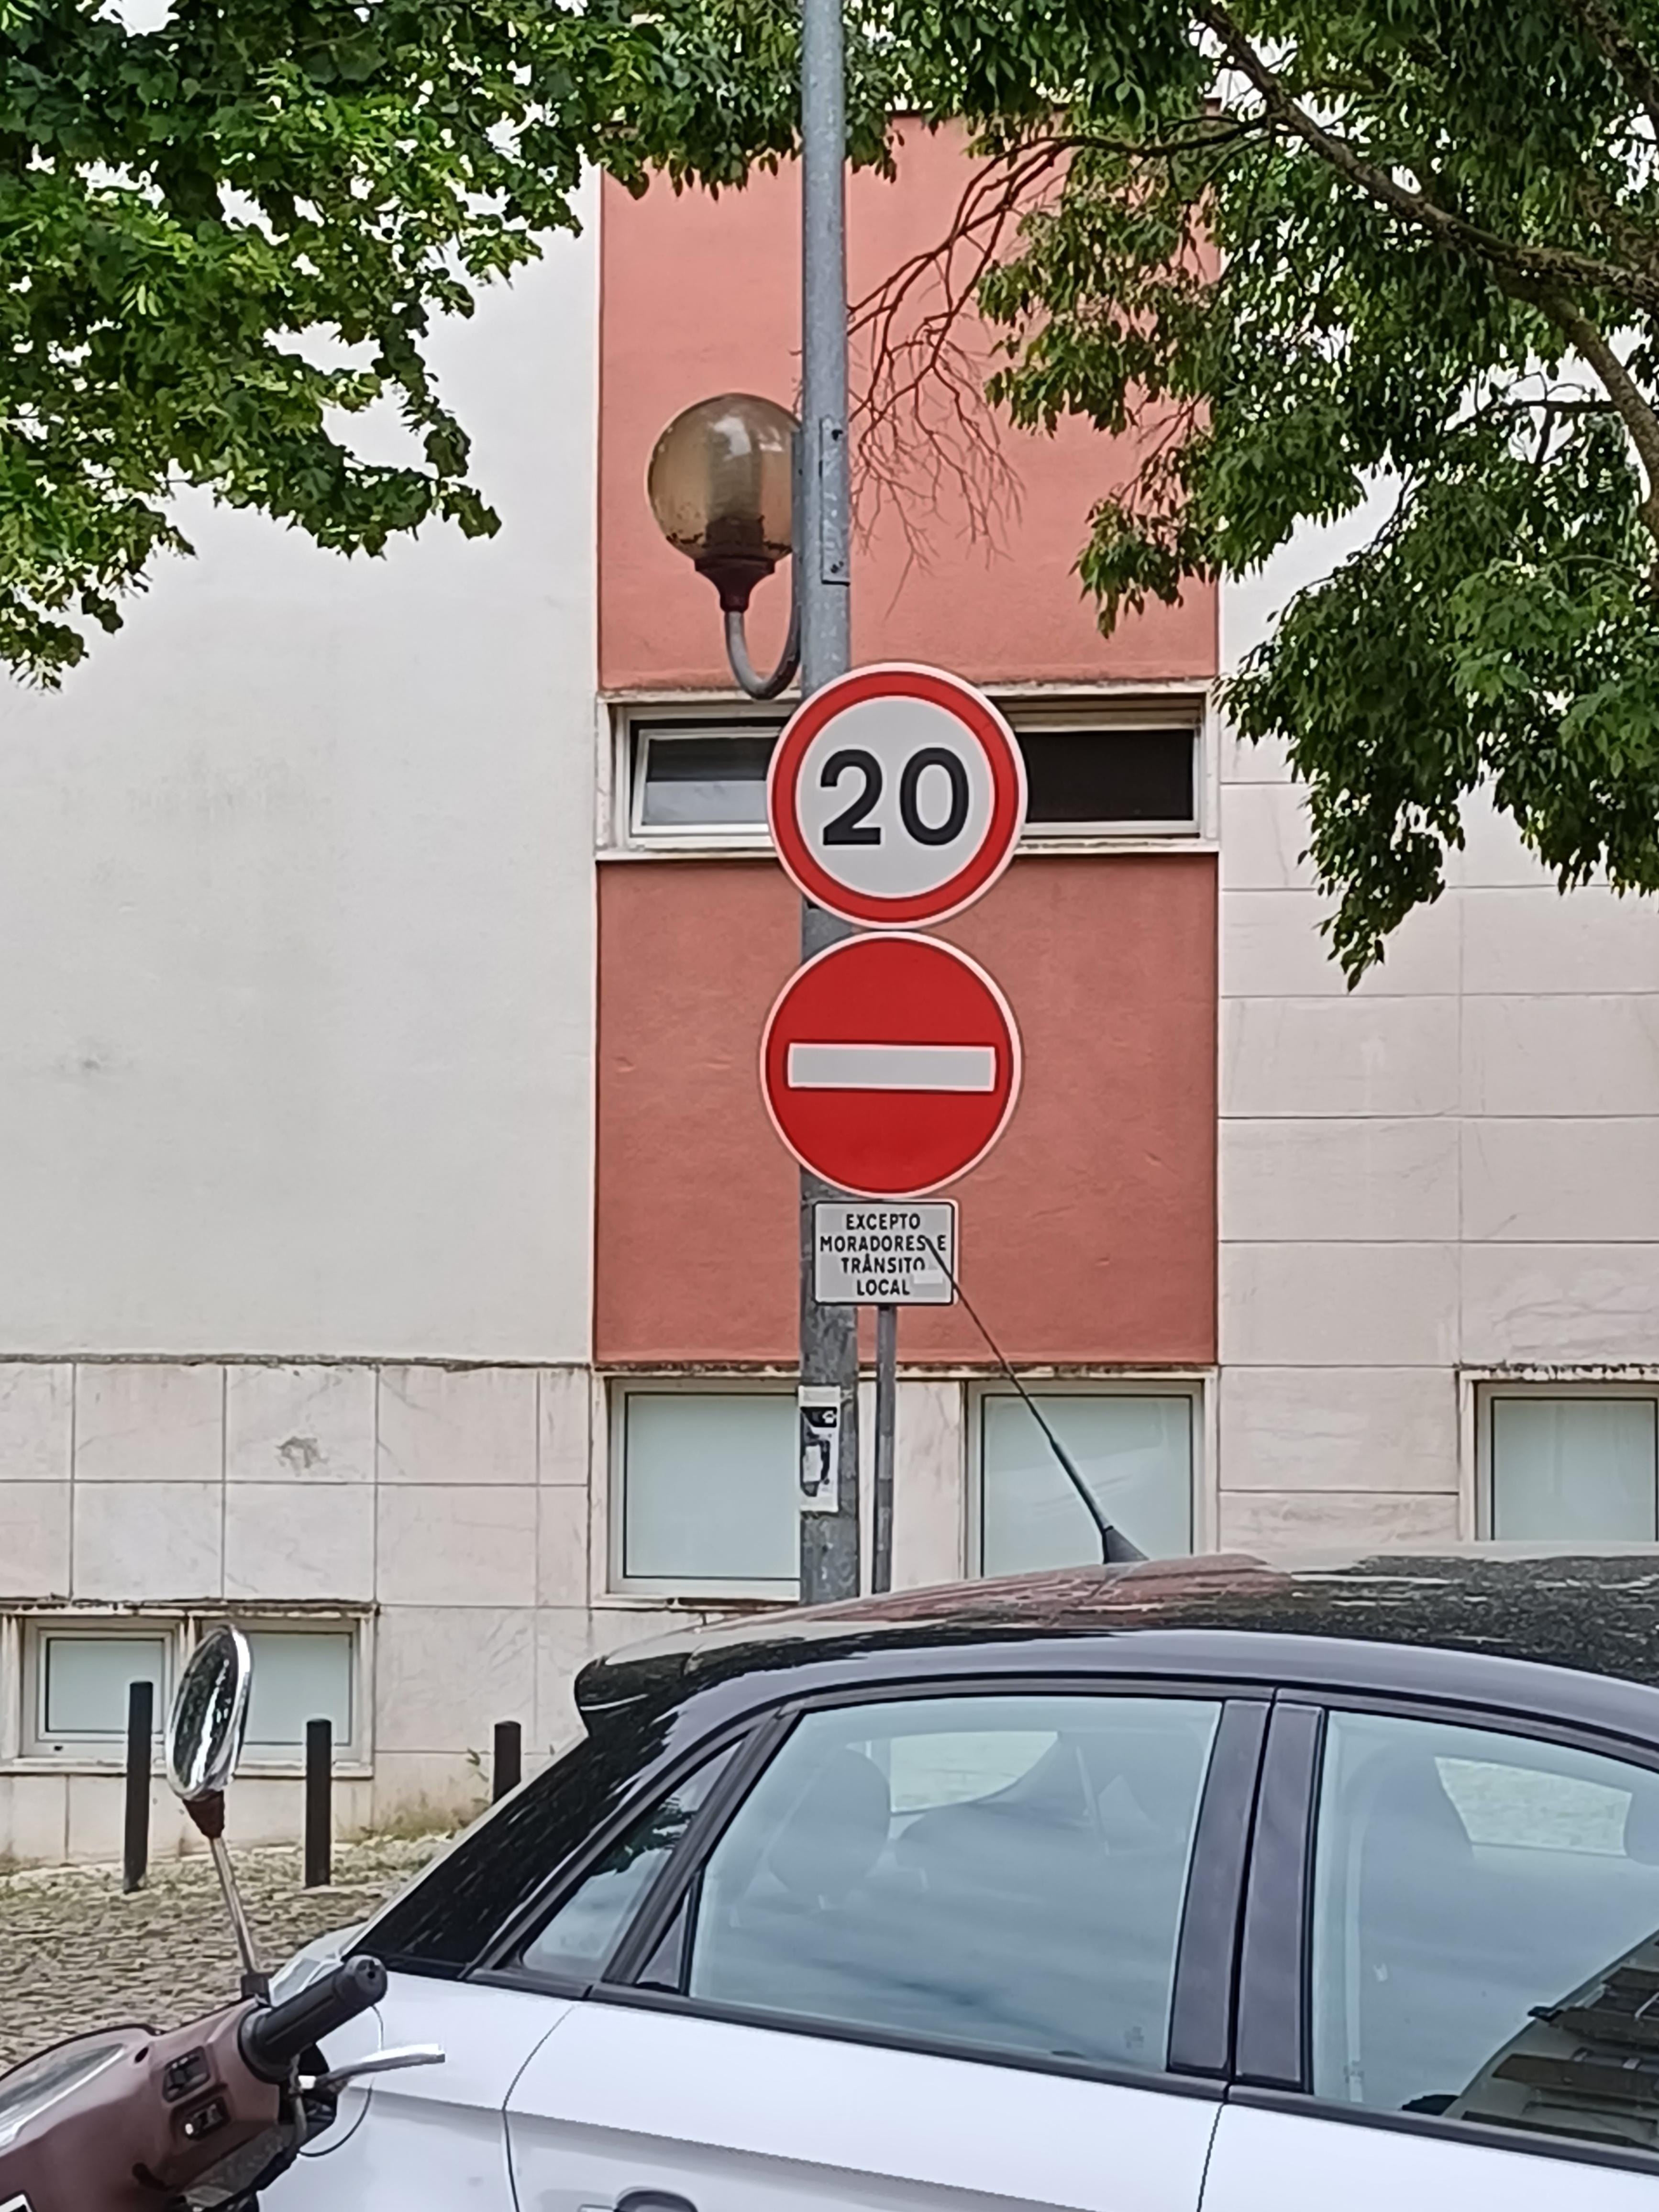Sentido proibido: (779, 937, 1019, 1186)
limite de velociadade: (746, 646, 1039, 948)
